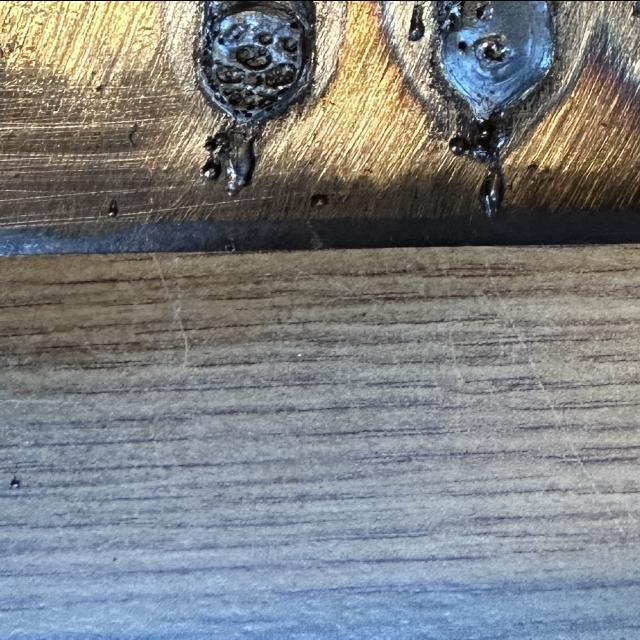Porosity: (198, 0, 313, 122), (480, 36, 505, 61), (475, 0, 488, 19), (283, 38, 298, 51), (258, 32, 273, 45), (458, 40, 466, 51)
Spatters: (220, 124, 258, 195), (468, 119, 495, 161), (480, 166, 503, 215), (408, 4, 424, 40), (203, 130, 226, 151), (448, 135, 470, 155), (202, 158, 222, 179), (310, 192, 328, 207), (310, 192, 328, 206), (107, 199, 118, 216), (10, 479, 19, 488)
